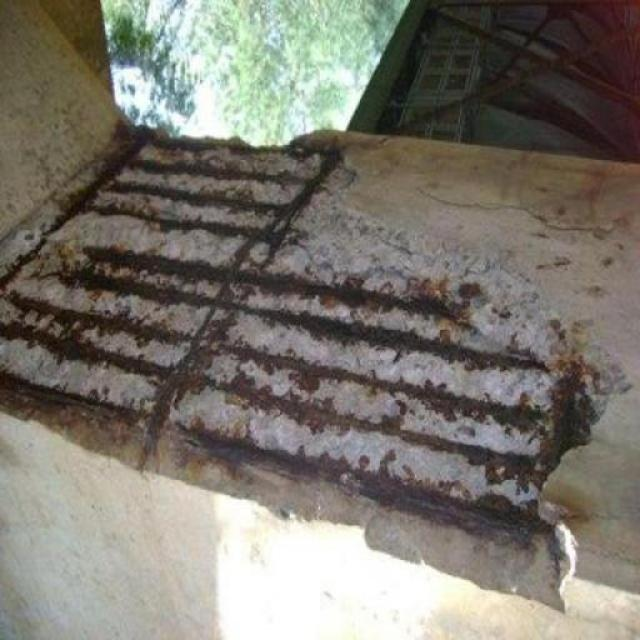D0w0: (0, 124, 624, 614)
